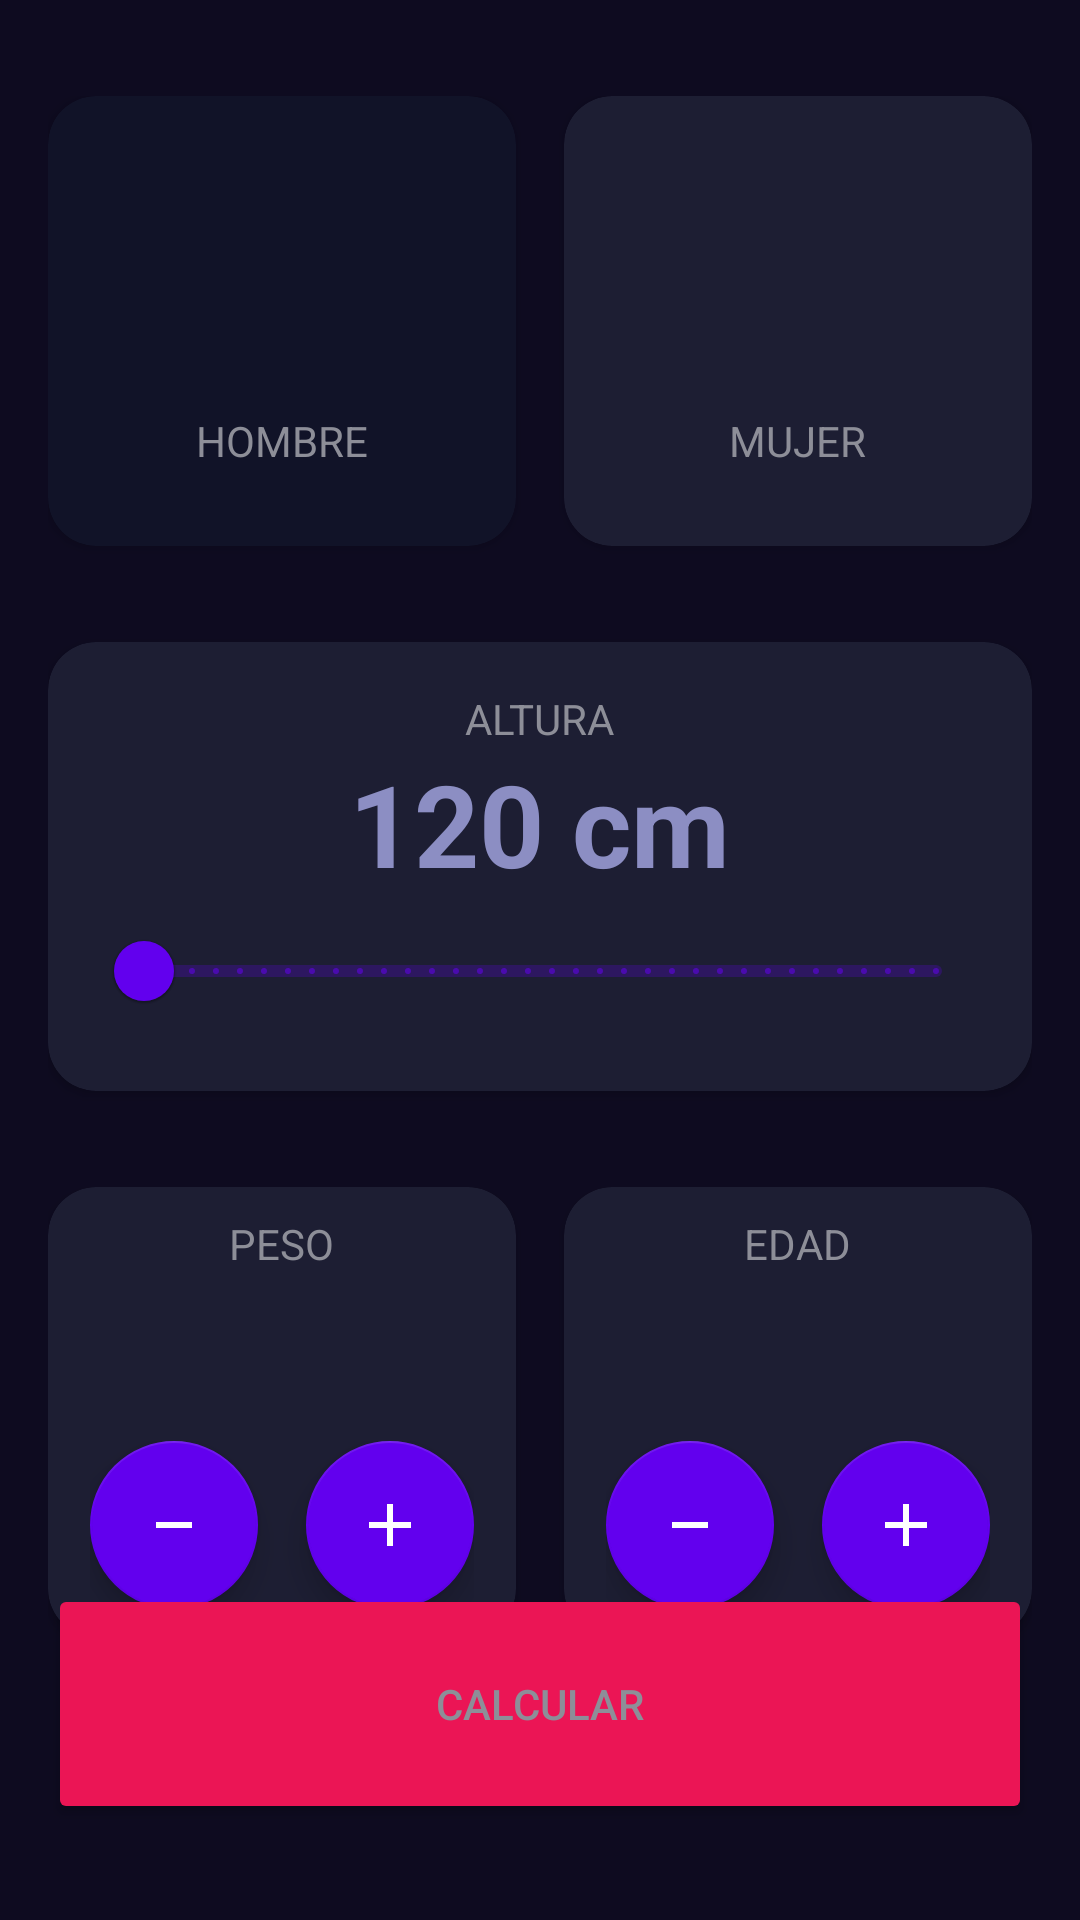

Icon click points for this 1080x1920 phone screenshot, format [x,y]:
menos: [174,1525], [690,1525]
sumar: [390,1525], [906,1525]
